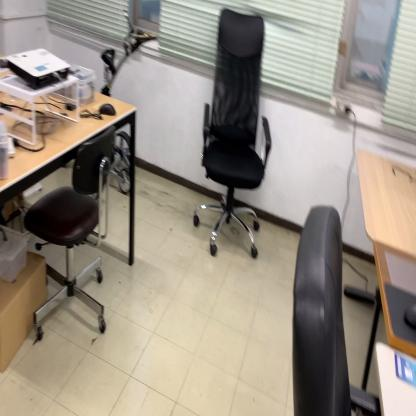chair: (190, 7, 273, 261), (24, 122, 116, 343), (288, 200, 382, 416)
